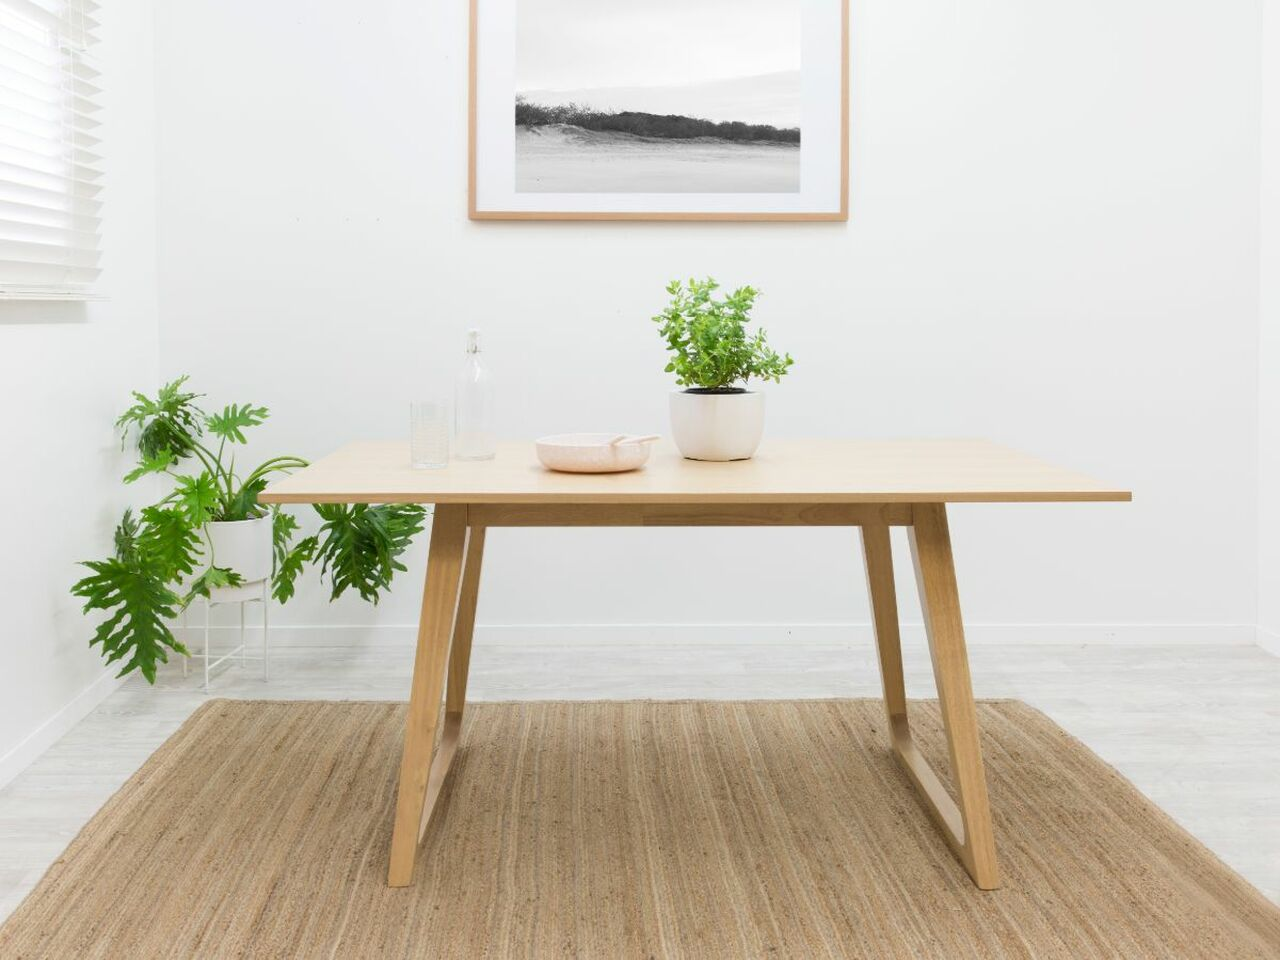lukisan: (462, 1, 851, 227)
meja: (244, 376, 1159, 901)
tanaman: (102, 384, 267, 620), (662, 282, 760, 458)
